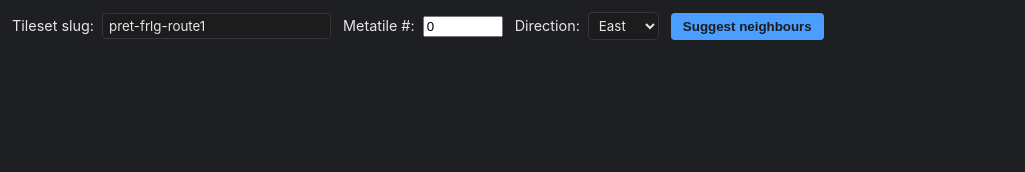
TileNeighboursExplorer › shows the empty-state hint when the sidecar returns no suggestions
Step 1. Click the button "Suggest neighbours" → (747, 26), box [671,12,824,40]
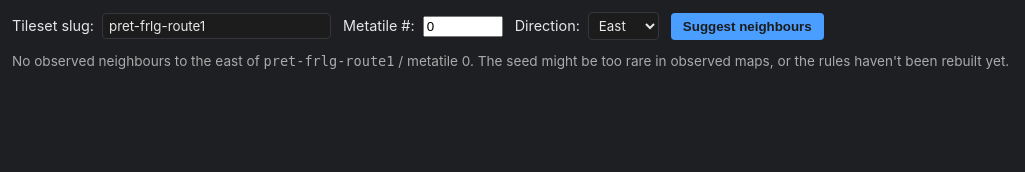
Now the text "No observed neighbours" is shown, box [12,53,215,69]
